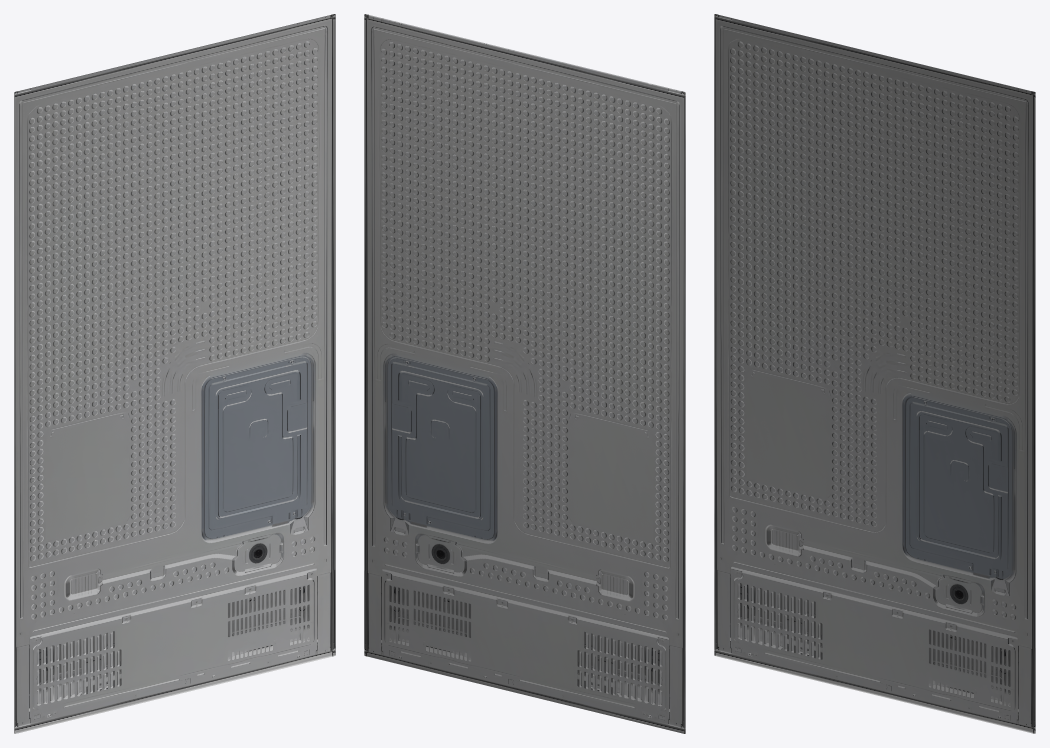
File: backfridge.obj
The picture shows the model from 3 angles, left to right: view 1: azimuth 30°, elevation 25°; view 2: azimuth 150°, elevation 25°; view 3: azimuth 330°, elevation 25°; orthographic projection.
Parts seen in each view (by area): view 1: SamsungFamilyHub_Fridge.004; view 2: SamsungFamilyHub_Fridge.004; view 3: SamsungFamilyHub_Fridge.004.
Part boxes in pixels (x1,y1,x2,y2): SamsungFamilyHub_Fridge.004: (14,14,335,733); SamsungFamilyHub_Fridge.004: (364,14,685,733); SamsungFamilyHub_Fridge.004: (714,14,1035,733).
Bounding box in the file's own units: 68.4 × 131 × 0.1978.
